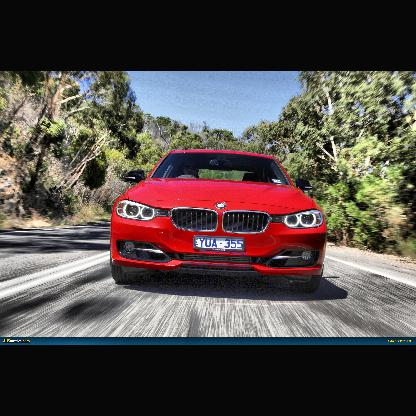BMW 3 Series Sedan 2012: (109, 149, 329, 288)
